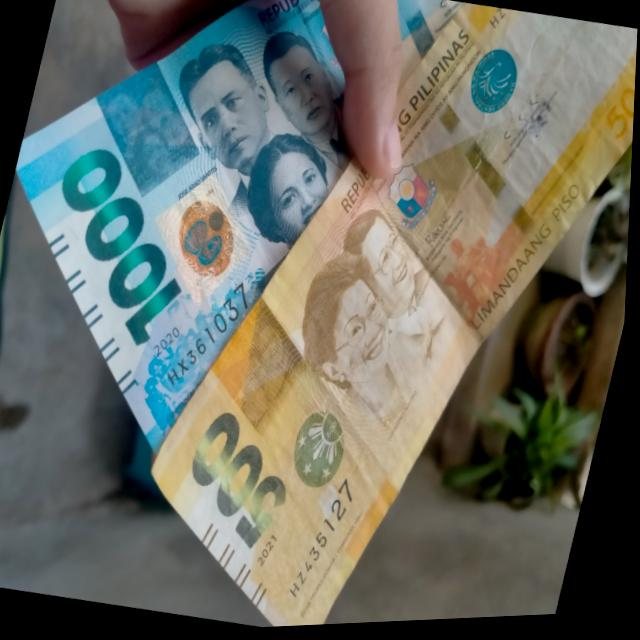concealed_value: (79, 50, 226, 209), (205, 293, 331, 441)
optically_variable_device: (146, 160, 275, 318), (265, 369, 383, 529)
security_thread: (410, 57, 561, 268)
value: (36, 136, 215, 364), (175, 410, 312, 557)
